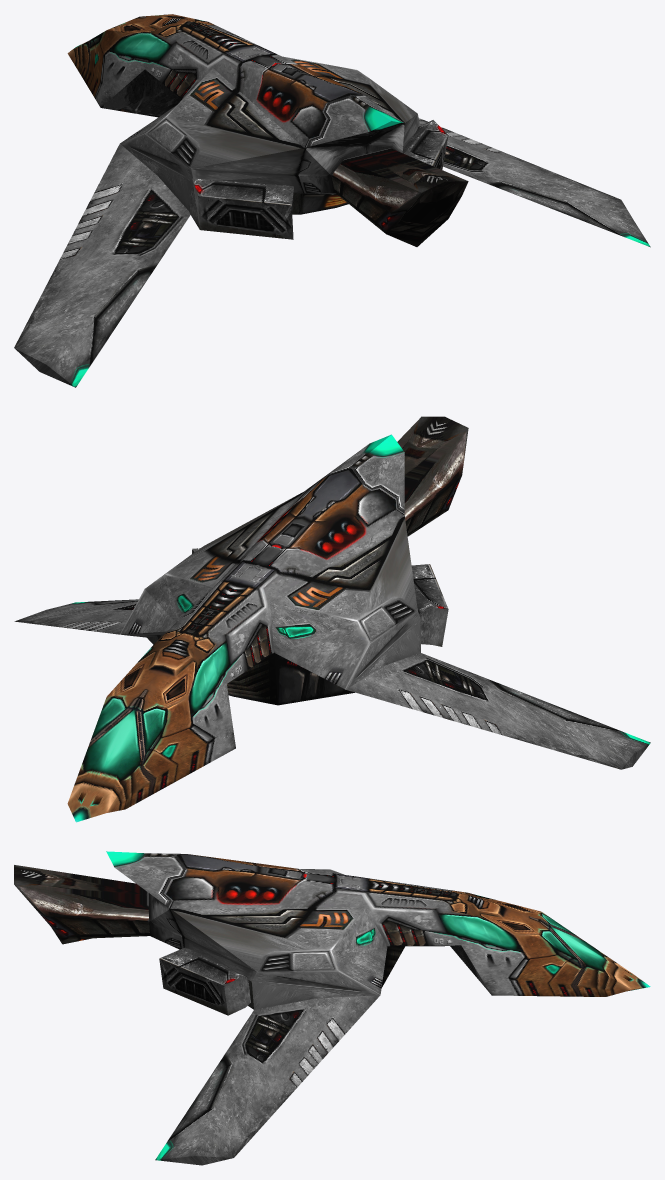
File: alien-mothership.obj
3 views of the same model, one above another, from view 1: azimuth 30°, elevation 25°; view 2: azimuth 150°, elevation 25°; view 3: azimuth 270°, elevation 25° (orthographic). The views are drawn at different scales.
Parts seen in each view (by area): view 1: Line01; view 2: Line01; view 3: Line01.
Part boxes in pixels (x1,y1,x2,y2): Line01: (14,14,650,387); Line01: (14,416,650,822); Line01: (14,851,650,1165).
Size of the model in its own units: 5.58 by 1.92 by 5.87.
